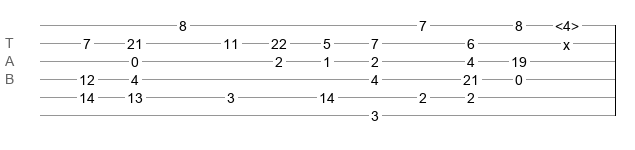0: (131, 54, 139, 64), (515, 72, 523, 82)
1: (323, 54, 331, 64)
11: (223, 36, 239, 46)
12: (79, 72, 95, 82)
13: (127, 90, 143, 100)
14: (79, 90, 95, 100), (319, 90, 335, 100)
19: (511, 54, 527, 64)
2: (275, 54, 283, 64), (371, 54, 379, 64), (419, 90, 427, 100), (467, 90, 475, 100)
21: (127, 36, 143, 46), (463, 72, 479, 82)
22: (271, 36, 287, 46)
3: (227, 90, 235, 100), (371, 108, 379, 118)
4: (131, 72, 139, 82), (371, 72, 379, 82), (467, 54, 475, 64)
5: (323, 36, 331, 46)
6: (467, 36, 475, 46)
7: (83, 36, 91, 46), (371, 36, 379, 46), (419, 18, 427, 28)
8: (179, 18, 187, 28), (515, 18, 523, 28)
harmonic: (555, 18, 579, 28)
x: (563, 37, 570, 45)
